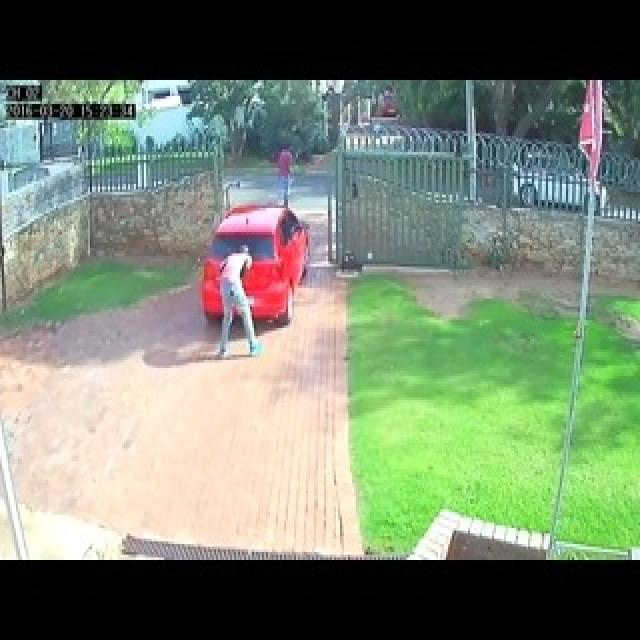thief: (217, 240, 261, 340), (275, 120, 300, 230)
